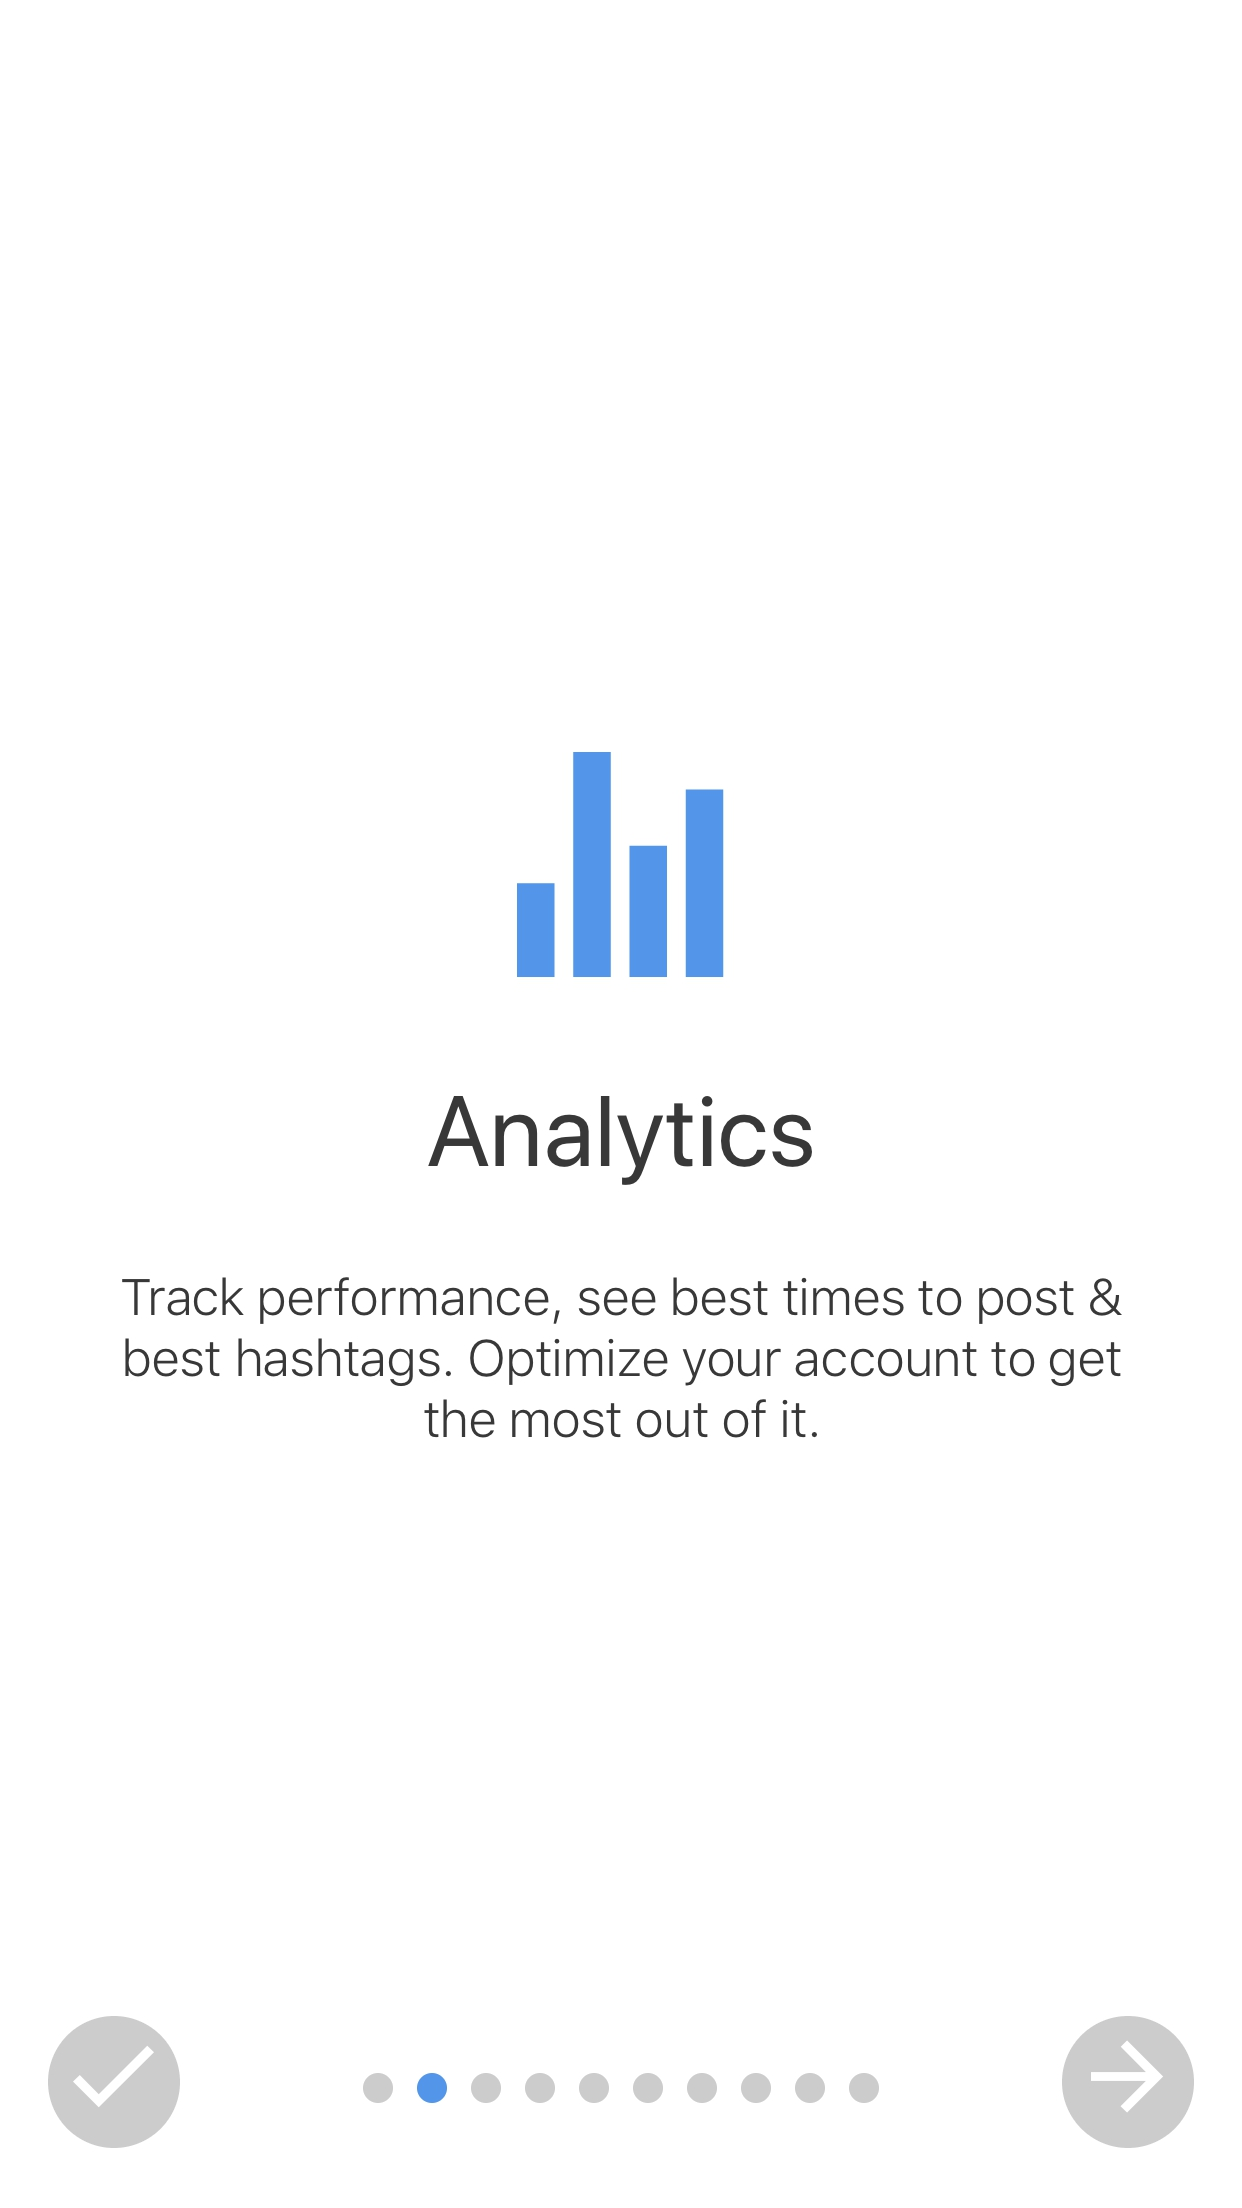Icon: (517, 752, 723, 978), (1062, 2015, 1193, 2147), (49, 2015, 180, 2147)
PageIndicator: (362, 2072, 880, 2103)
Text: (121, 1277, 1122, 1438), (428, 1096, 811, 1184)
